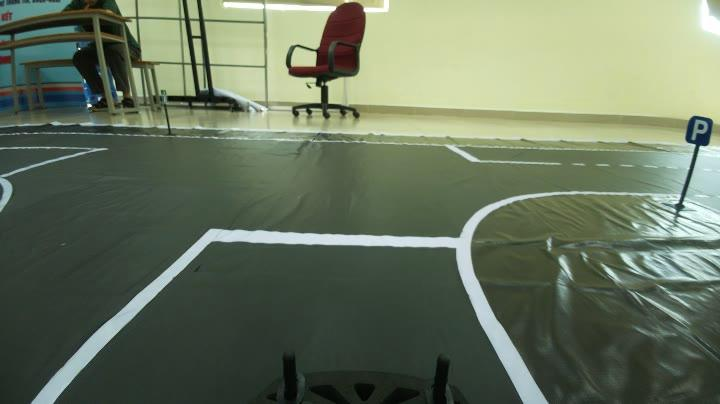parking: (685, 113, 713, 150)
